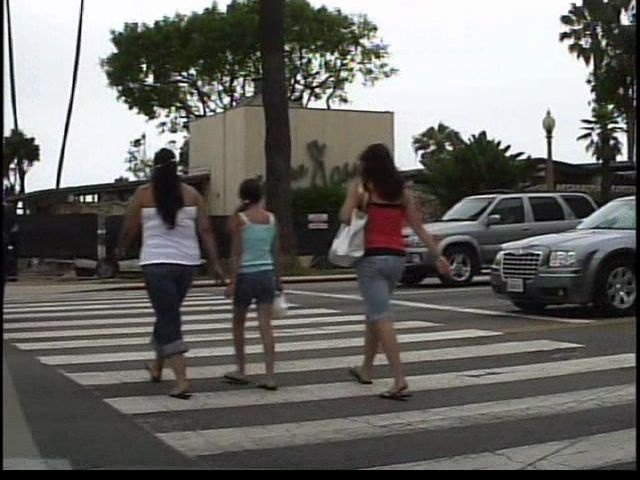person: (343, 130, 450, 398), (103, 139, 200, 403), (226, 172, 300, 397)
